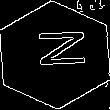N_W: (26, 34, 84, 76)
